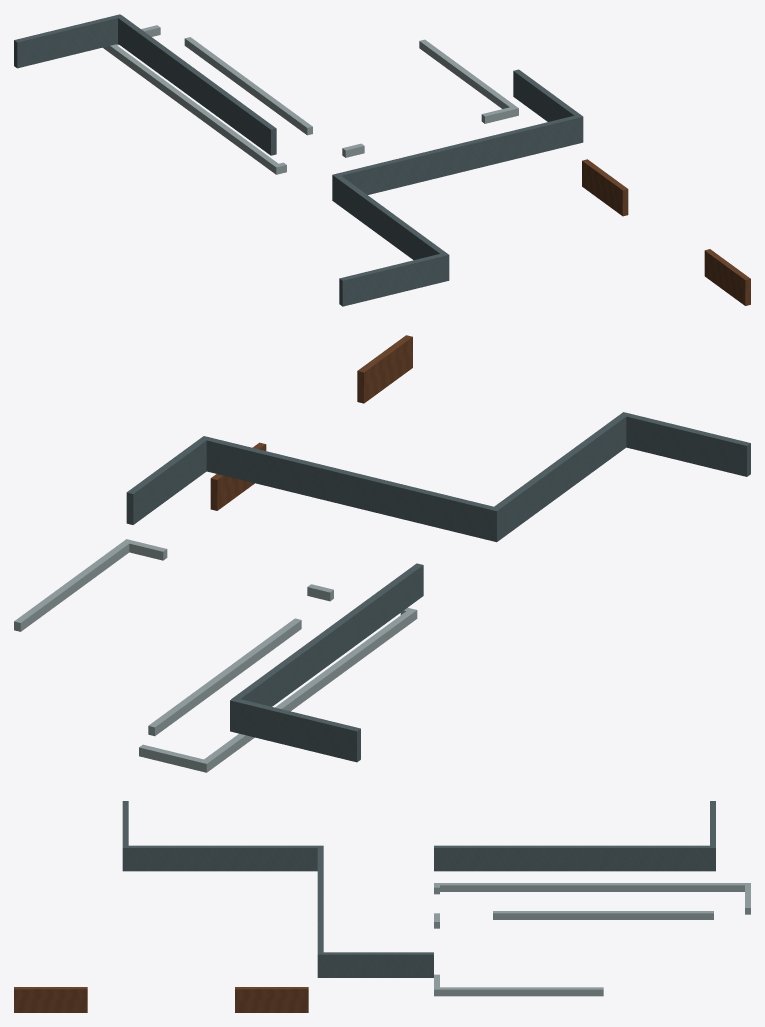
The model's file is D04_COMMONS_CEILING_JUNCTIONS_r003.glb.
3 renders of one model, top to bottom at view 1: azimuth 30°, elevation 25°; view 2: azimuth 150°, elevation 25°; view 3: azimuth 270°, elevation 25°, orthographic. The views are drawn at different scales.
Visible parts, largest first — view 1: CCJ_Cap3_PCR_FrontGuestBoundary, CCJ_Cap5_PCR_RearSouthBoundary, CCJ_Cap2_PCR_RearNorthEnd, CCJ_Cap1_PCR_RearSouthEnd, CCJ_Cap0_PCR_RearQuietBoundary, CCJ_Cap8_PCC_ServiceWest, CCJ_Cap4_PCR_EastGuestBoundary, CCJ_Cap11_PCC_ServiceDivider, CCJ_Cap6_PCC_QuietScreen, CCJ_Cap7_PCC_QuietScreenBack, CCJ_Cap9_PCC_ServiceEast; view 2: CCJ_Cap3_PCR_FrontGuestBoundary, CCJ_Cap5_PCR_RearSouthBoundary, CCJ_Cap0_PCR_RearQuietBoundary, CCJ_Cap1_PCR_RearSouthEnd, CCJ_Cap2_PCR_RearNorthEnd, CCJ_Cap4_PCR_EastGuestBoundary, CCJ_Cap8_PCC_ServiceWest, CCJ_Cap11_PCC_ServiceDivider, CCJ_Cap7_PCC_QuietScreenBack, CCJ_Cap9_PCC_ServiceEast, CCJ_Cap6_PCC_QuietScreen, CCJ_Cap10_PCC_ServiceNorth; view 3: CCJ_Cap5_PCR_RearSouthBoundary, CCJ_Cap0_PCR_RearQuietBoundary, CCJ_Cap4_PCR_EastGuestBoundary, CCJ_Cap8_PCC_ServiceWest, CCJ_Cap11_PCC_ServiceDivider, CCJ_Cap6_PCC_QuietScreen, CCJ_Cap7_PCC_QuietScreenBack, CCJ_Cap9_PCC_ServiceEast, CCJ_Cap3_PCR_FrontGuestBoundary, CCJ_Cap2_PCR_RearNorthEnd.
Boxes of the visible parts, bbox=[...] form: CCJ_Cap3_PCR_FrontGuestBoundary: bbox=[332, 114, 583, 202]; CCJ_Cap5_PCR_RearSouthBoundary: bbox=[116, 15, 276, 155]; CCJ_Cap2_PCR_RearNorthEnd: bbox=[339, 253, 449, 306]; CCJ_Cap1_PCR_RearSouthEnd: bbox=[14, 14, 122, 68]; CCJ_Cap0_PCR_RearQuietBoundary: bbox=[332, 173, 447, 259]; CCJ_Cap8_PCC_ServiceWest: bbox=[103, 44, 281, 174]; CCJ_Cap4_PCR_EastGuestBoundary: bbox=[513, 69, 583, 142]; CCJ_Cap11_PCC_ServiceDivider: bbox=[184, 37, 312, 135]; CCJ_Cap6_PCC_QuietScreen: bbox=[582, 159, 628, 216]; CCJ_Cap7_PCC_QuietScreenBack: bbox=[704, 249, 750, 305]; CCJ_Cap9_PCC_ServiceEast: bbox=[419, 39, 518, 116]; CCJ_Cap3_PCR_FrontGuestBoundary: bbox=[201, 436, 500, 541]; CCJ_Cap5_PCR_RearSouthBoundary: bbox=[231, 563, 423, 706]; CCJ_Cap0_PCR_RearQuietBoundary: bbox=[494, 413, 628, 541]; CCJ_Cap1_PCR_RearSouthEnd: bbox=[230, 697, 360, 762]; CCJ_Cap2_PCR_RearNorthEnd: bbox=[620, 412, 750, 476]; CCJ_Cap4_PCR_EastGuestBoundary: bbox=[126, 437, 207, 524]; CCJ_Cap8_PCC_ServiceWest: bbox=[200, 608, 417, 772]; CCJ_Cap11_PCC_ServiceDivider: bbox=[148, 618, 301, 736]; CCJ_Cap7_PCC_QuietScreenBack: bbox=[357, 335, 412, 403]; CCJ_Cap9_PCC_ServiceEast: bbox=[14, 539, 132, 631]; CCJ_Cap6_PCC_QuietScreen: bbox=[210, 442, 266, 510]; CCJ_Cap10_PCC_ServiceNorth: bbox=[139, 744, 210, 772]; CCJ_Cap5_PCR_RearSouthBoundary: bbox=[434, 845, 713, 871]; CCJ_Cap0_PCR_RearQuietBoundary: bbox=[124, 845, 323, 871]; CCJ_Cap4_PCR_EastGuestBoundary: bbox=[317, 952, 433, 977]; CCJ_Cap8_PCC_ServiceWest: bbox=[434, 883, 750, 891]; CCJ_Cap11_PCC_ServiceDivider: bbox=[493, 911, 713, 919]; CCJ_Cap6_PCC_QuietScreen: bbox=[235, 987, 308, 1012]; CCJ_Cap7_PCC_QuietScreenBack: bbox=[14, 987, 87, 1012]; CCJ_Cap9_PCC_ServiceEast: bbox=[434, 987, 603, 996]; CCJ_Cap3_PCR_FrontGuestBoundary: bbox=[317, 845, 323, 977]; CCJ_Cap2_PCR_RearNorthEnd: bbox=[122, 801, 128, 871].
Bounding box in the file's own units: 9.86 × 1.75 × 20.
3 materials, 2 textured.
